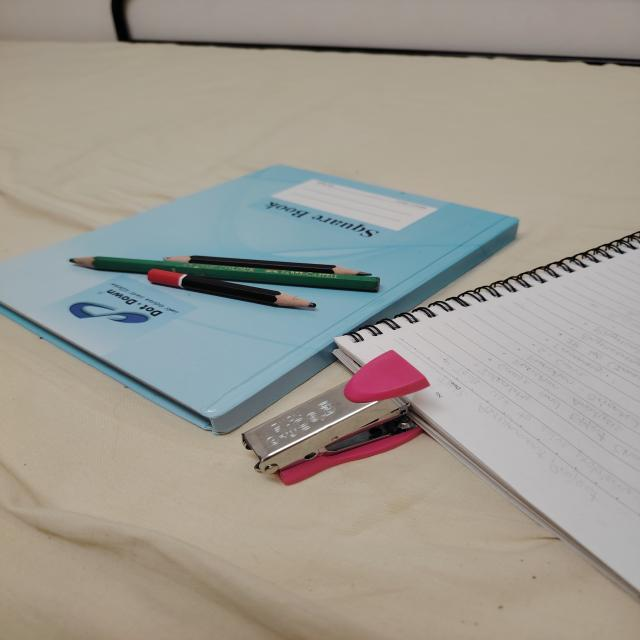pencil: (70, 256, 379, 292), (147, 269, 316, 308), (164, 255, 372, 276)
stapler: (243, 349, 430, 485)
